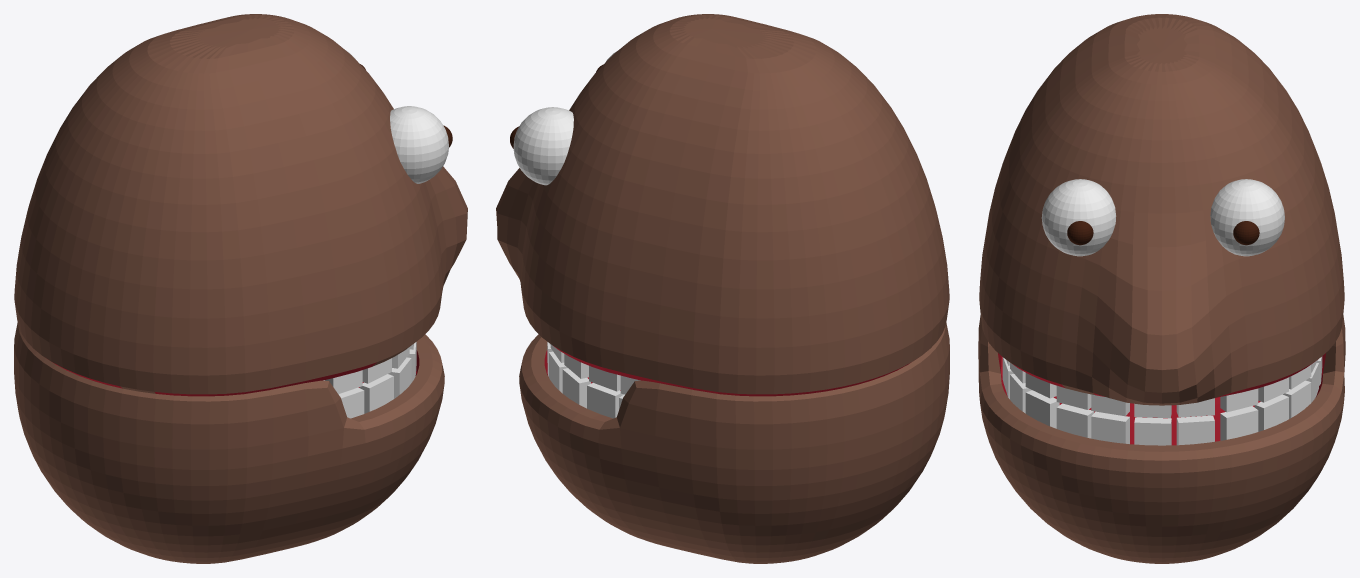
The model's file is headnew.glb.
3 renders of one model, left to right at view 1: azimuth 30°, elevation 25°; view 2: azimuth 150°, elevation 25°; view 3: azimuth 270°, elevation 25°, orthographic. The views are drawn at different scales.
Parts seen in each view (by area): view 1: TopHead, BottomHead, Sphere.002, Cube.002, Cube.001, Cube.003; view 2: TopHead, BottomHead, Sphere.003, Cube.010, Cube.009; view 3: TopHead, BottomHead, Sphere.003, Sphere.002, Cube.005, Cube.008, Cube.007, Cube.006, Cube.004, Cube.003, Cube.015, Cube.009 (+10 smaller).
Part boxes in pixels (x1,y1,x2,y2): TopHead: [14, 14, 467, 396]; BottomHead: [14, 323, 444, 563]; Sphere.002: [390, 106, 448, 183]; Cube.002: [359, 374, 393, 413]; Cube.001: [338, 387, 364, 418]; Cube.003: [388, 357, 411, 398]; TopHead: [496, 14, 949, 396]; BottomHead: [519, 323, 949, 563]; Sphere.003: [513, 107, 573, 185]; Cube.010: [587, 383, 623, 418]; Cube.009: [562, 368, 590, 408]; TopHead: [979, 14, 1344, 405]; BottomHead: [978, 315, 1345, 563]; Sphere.003: [1210, 179, 1284, 256]; Sphere.002: [1041, 179, 1116, 256]; Cube.005: [1091, 411, 1129, 443]; Cube.008: [1220, 406, 1258, 440]; Cube.007: [1176, 415, 1214, 445]; Cube.006: [1134, 417, 1171, 445]; Cube.004: [1056, 403, 1094, 438]; Cube.003: [1025, 390, 1059, 428]; Cube.015: [1254, 394, 1288, 431]; Cube.009: [1283, 380, 1311, 418].
Bounding box in the file's own units: 12.31 × 14.01 × 9.5.
